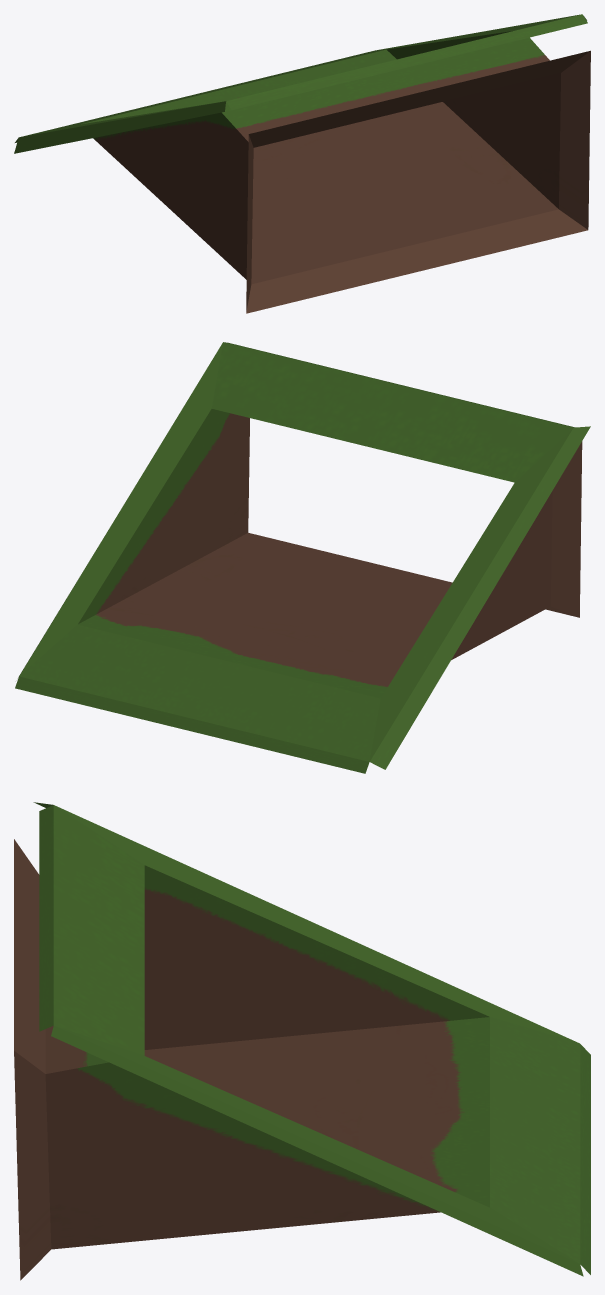
The model's file is toramp.gltf.
3 views of the same model, one above another, from view 1: azimuth 30°, elevation 25°; view 2: azimuth 150°, elevation 25°; view 3: azimuth 270°, elevation 25° (orthographic). The views are drawn at different scales.
Parts seen in each view (by area): view 1: Plane.001; view 2: Plane.001; view 3: Plane.001.
Boxes of the visible parts, x1=… form: Plane.001: x1=14, y1=14, x2=590, y2=313; Plane.001: x1=15, y1=342, x2=590, y2=773; Plane.001: x1=14, y1=802, x2=590, y2=1280.
Size of the model in its own units: 61.96 by 32.71 by 65.86.
1 material, 1 textured.
